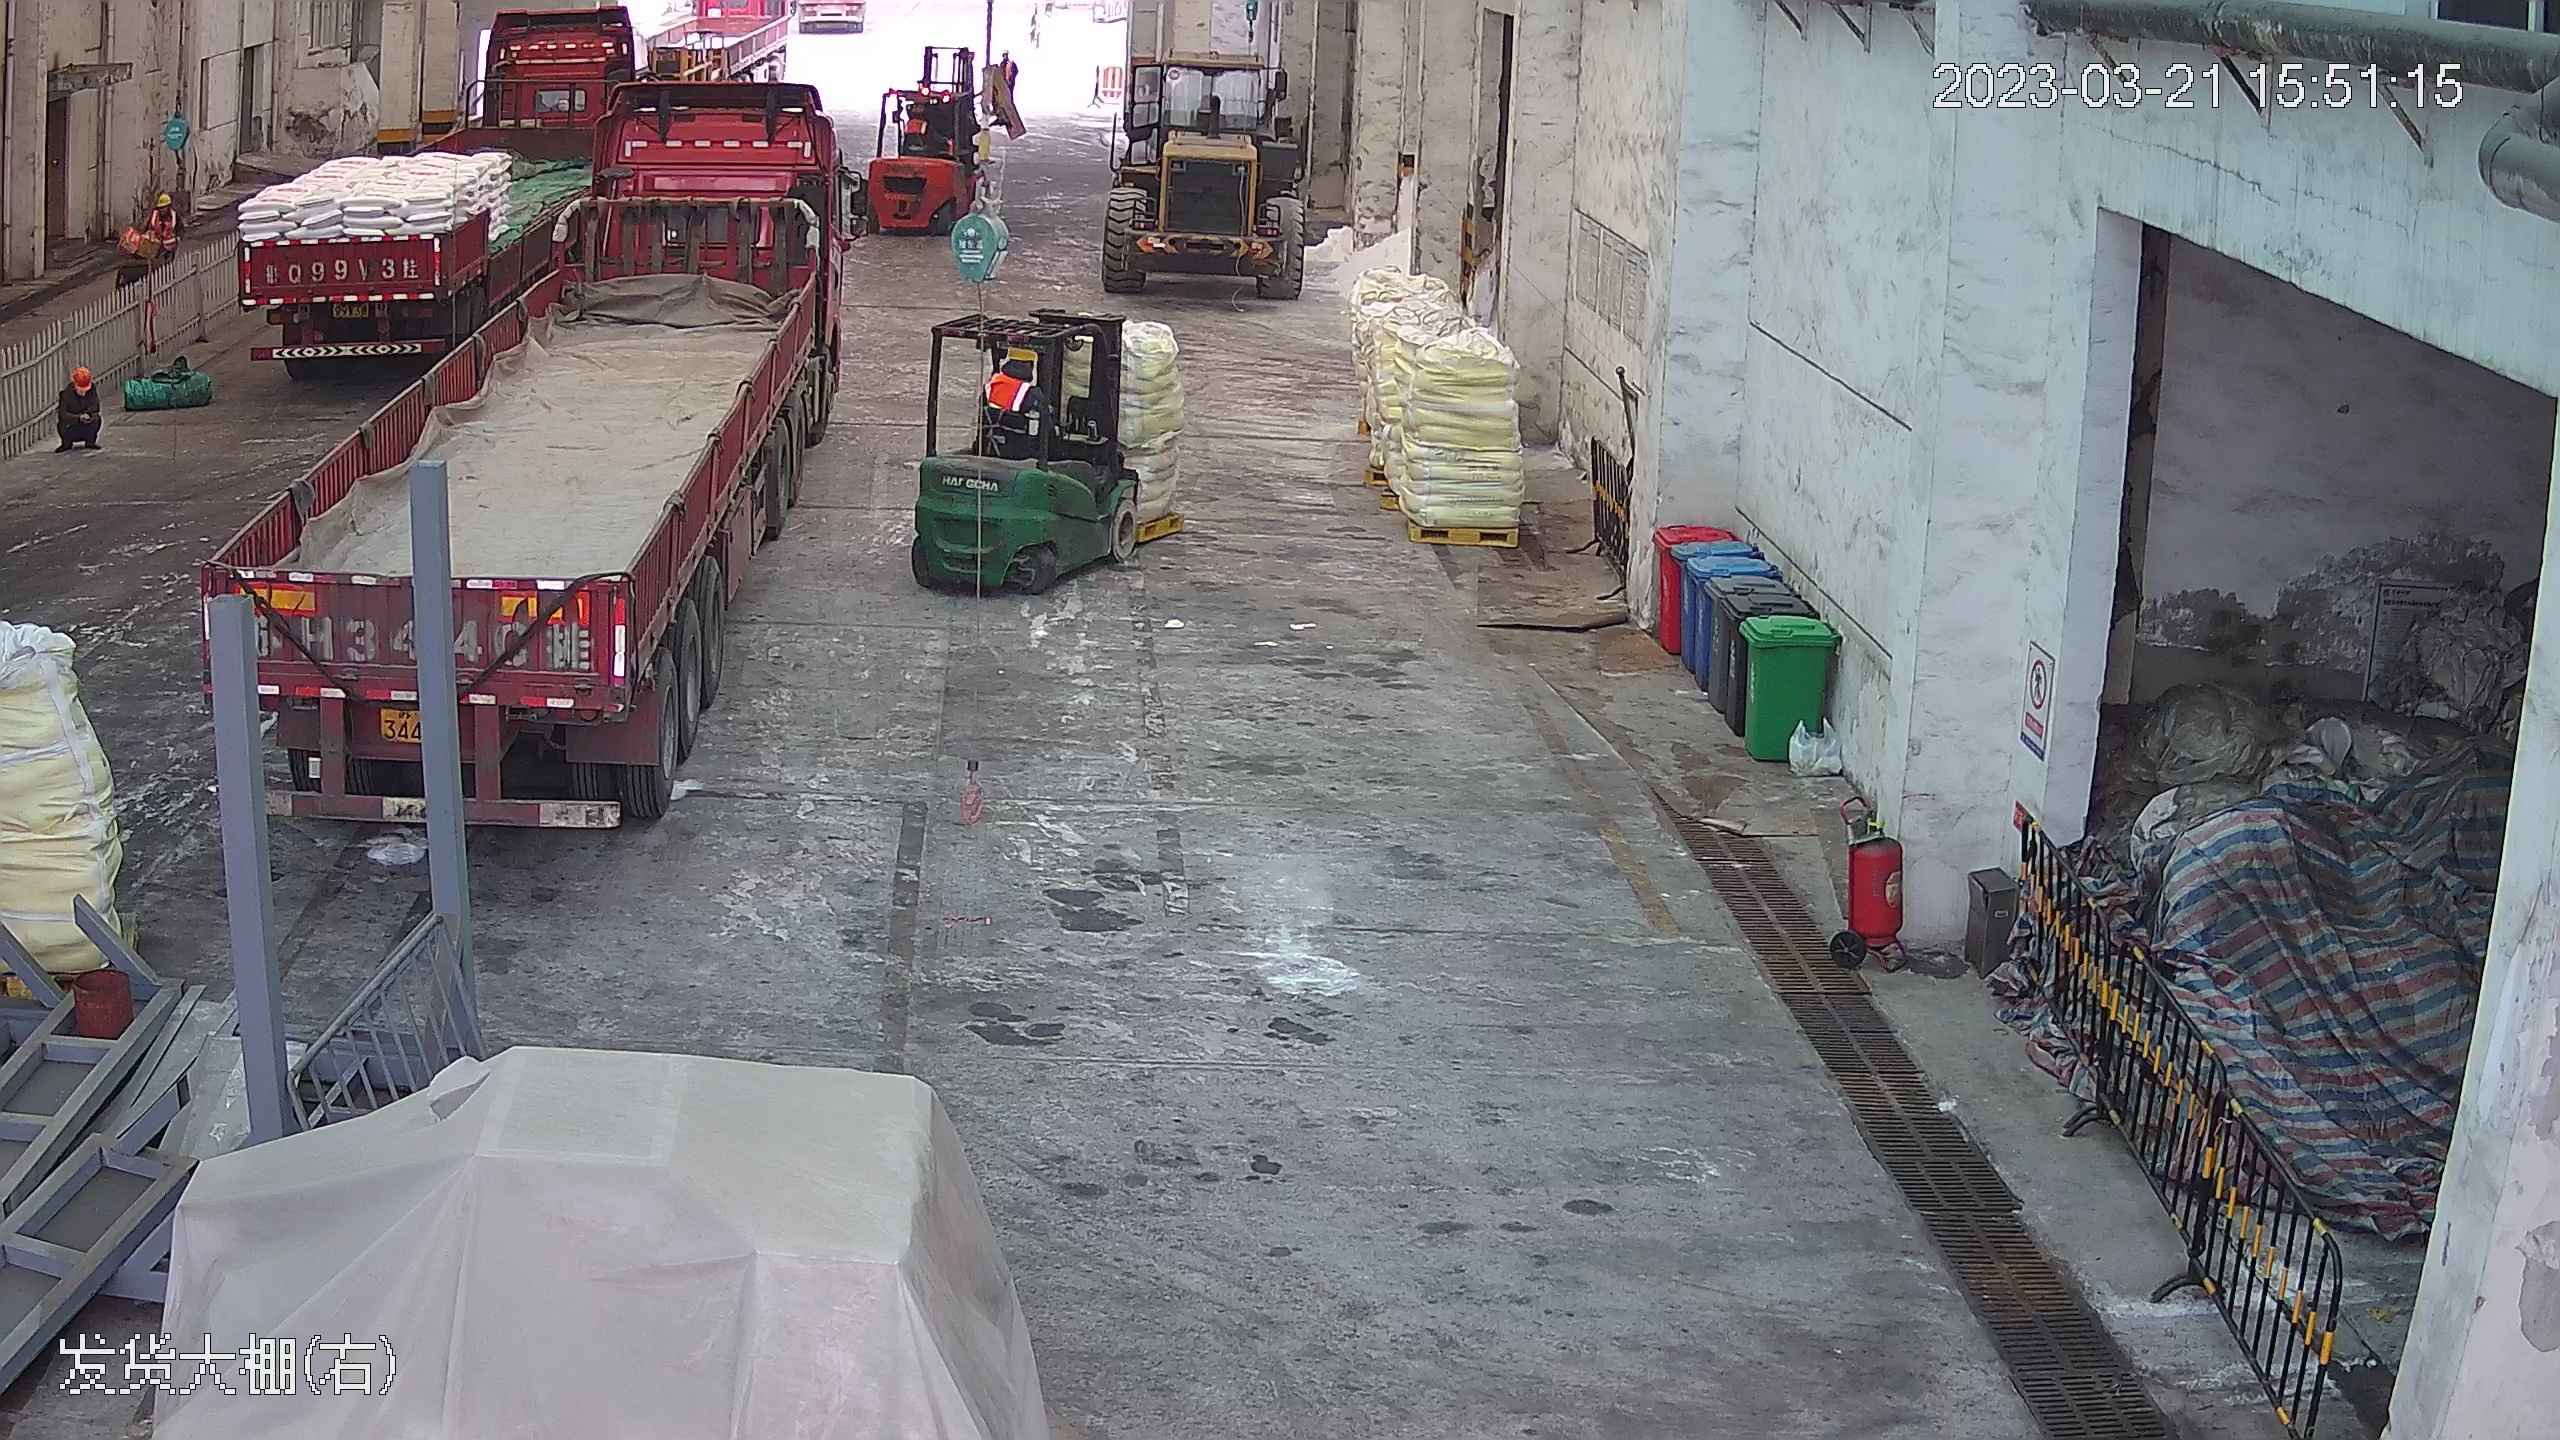head: (984, 341, 1045, 410), (57, 363, 96, 412), (148, 193, 181, 235)
helmet: (999, 338, 1037, 370), (67, 362, 92, 384), (153, 193, 172, 209)
people: (52, 358, 102, 455), (145, 192, 177, 266)
truck: (212, 22, 858, 845), (212, 15, 595, 376)
